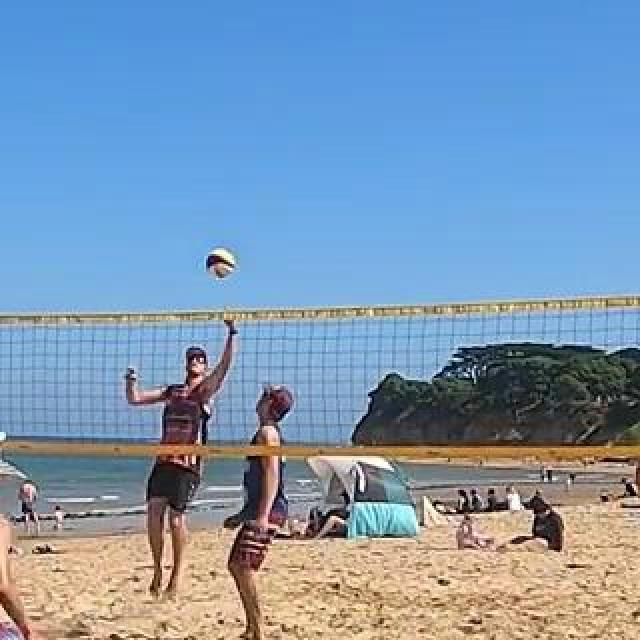volleyball: (208, 252, 236, 280)
